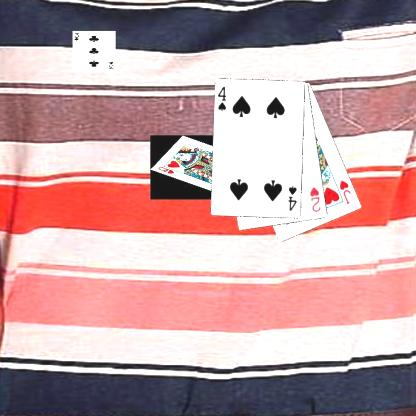2H: (308, 184, 322, 214)
4S: (286, 184, 298, 212), (216, 84, 228, 112)
JH: (337, 178, 352, 206)
